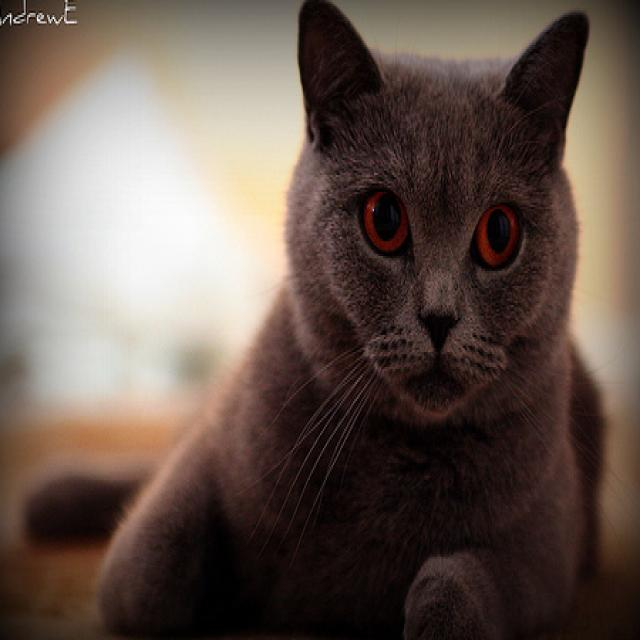British Shorthair: (98, 0, 612, 640)
